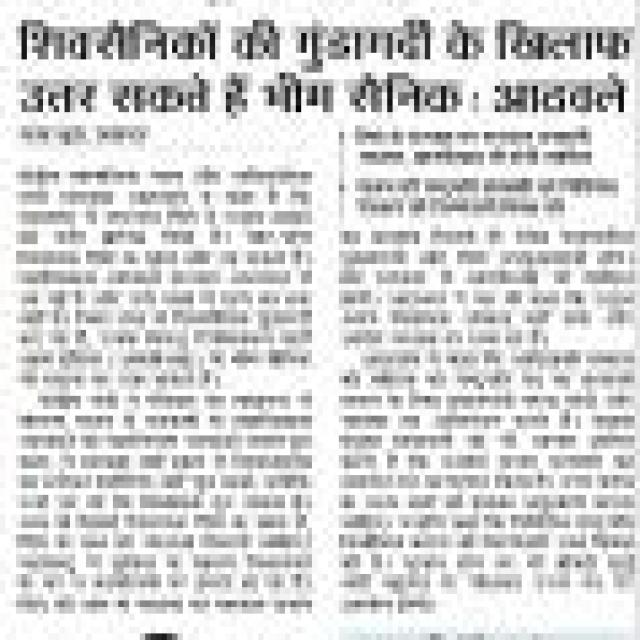paper: (5, 6, 639, 640)
